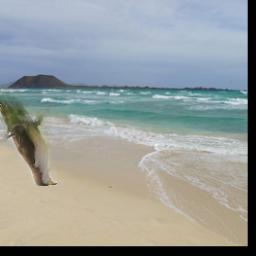Cuckoo: (0, 83, 57, 187)
